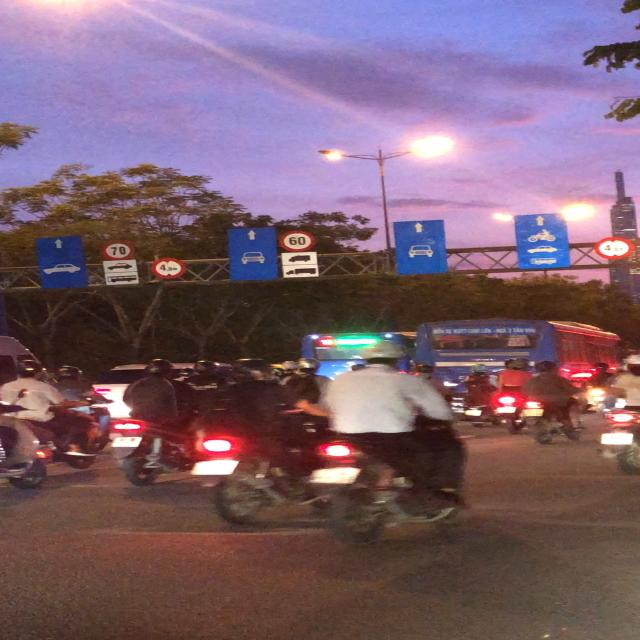Bien bao han che chieu cao: (592, 233, 640, 261), (147, 256, 186, 280)
Bien bao toc do toi da cho phep: (275, 229, 319, 251), (96, 237, 138, 259)
